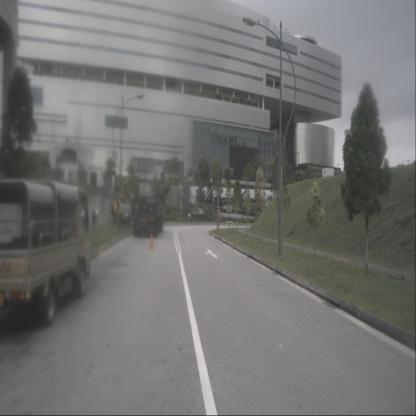movable_object-trafficcone: (149, 232, 154, 250)
vehicle-truck: (0, 179, 91, 326), (130, 192, 165, 238)
